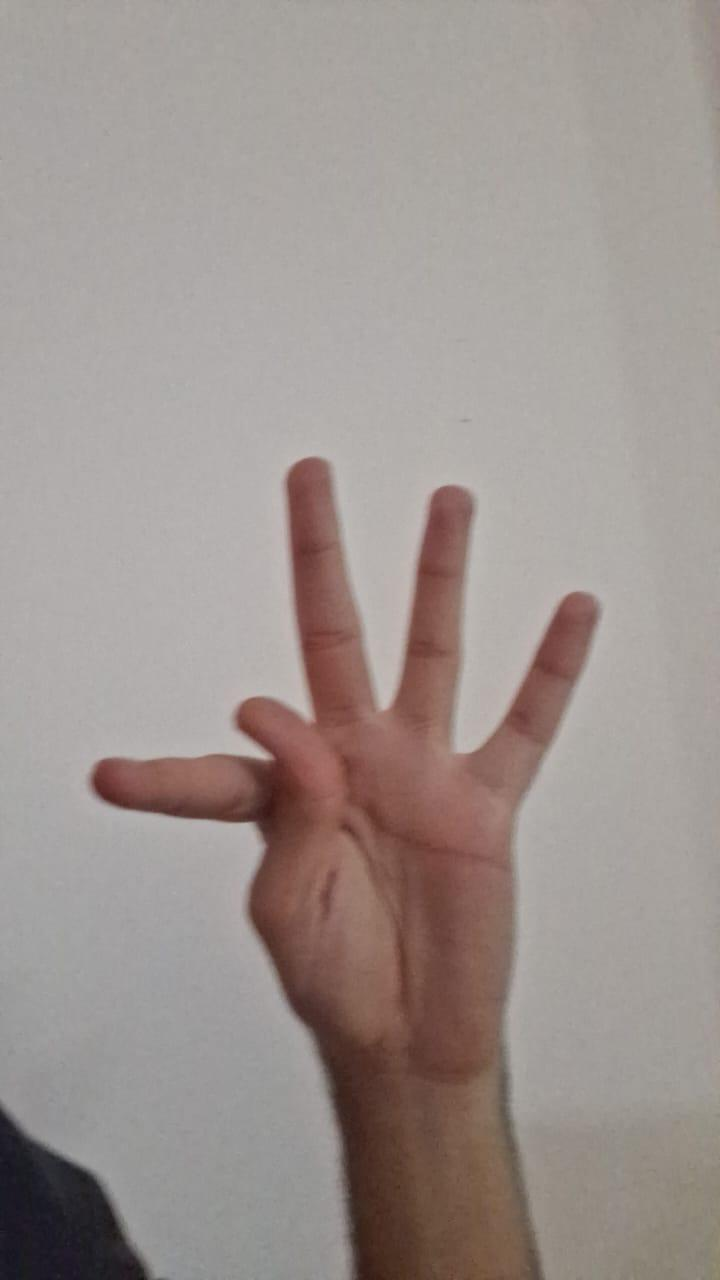T: (73, 443, 628, 1083)
